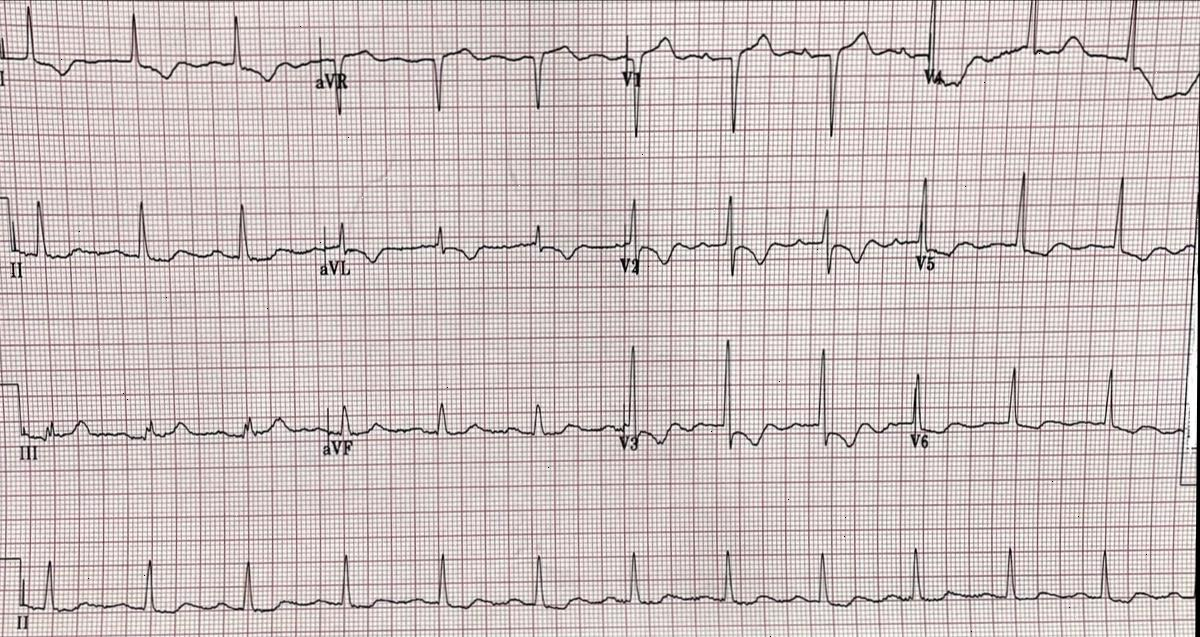Lead_I: (1, 6, 314, 124)
Lead_II: (3, 178, 313, 304)
Lead_III: (11, 376, 322, 475)
Lead_II_ext: (11, 541, 1197, 637)
Lead_V1: (618, 12, 907, 152)
Lead_V2: (621, 169, 907, 304)
Lead_V3: (617, 335, 906, 480)
Lead_V4: (907, 0, 1200, 139)
Lead_V5: (904, 157, 1199, 282)
Lead_V6: (904, 348, 1188, 472)
Lead_aVF: (324, 372, 619, 476)
Lead_aVL: (315, 171, 618, 289)
Lead_aVR: (316, 11, 617, 139)
